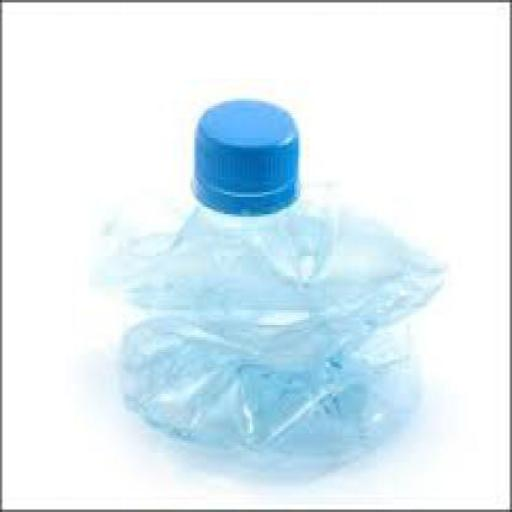plastic: (123, 94, 448, 478), (192, 94, 303, 214)
